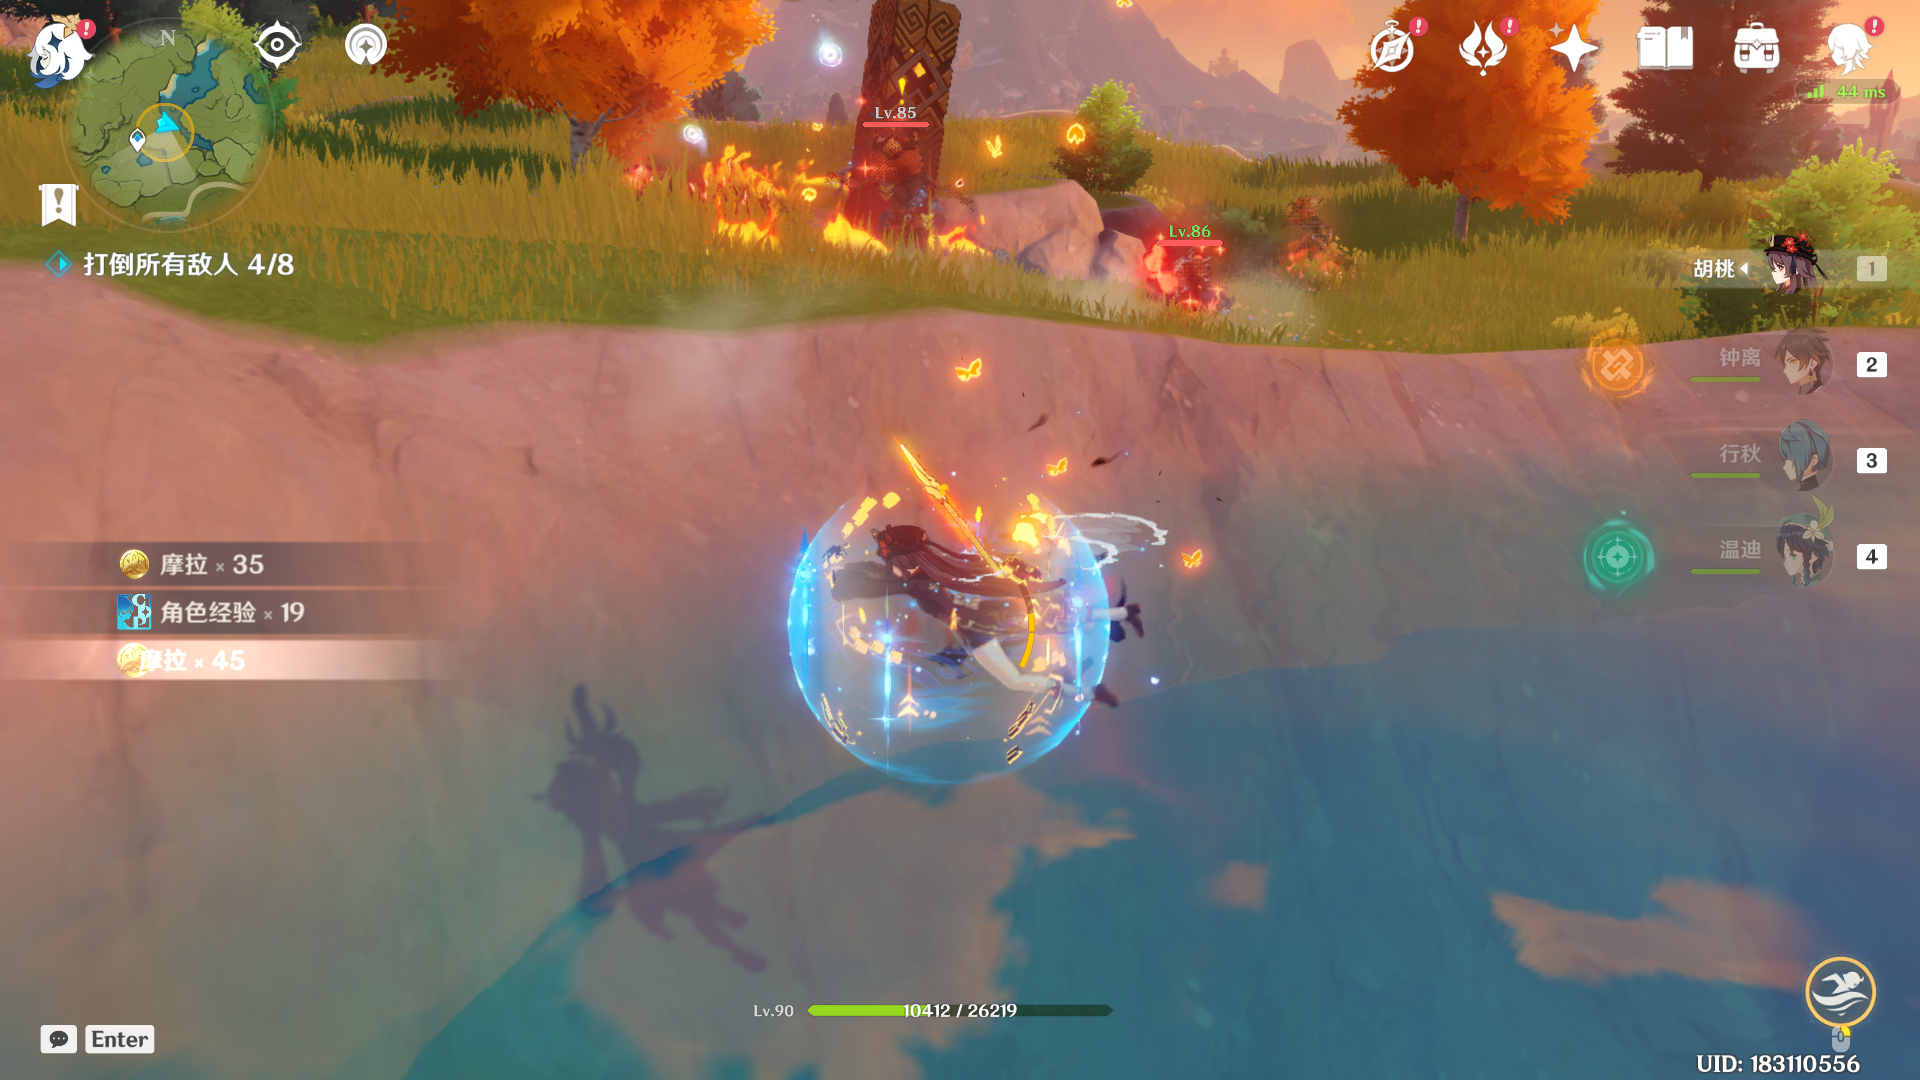character: (816, 480, 1179, 824)
hili: (829, 117, 973, 285)
